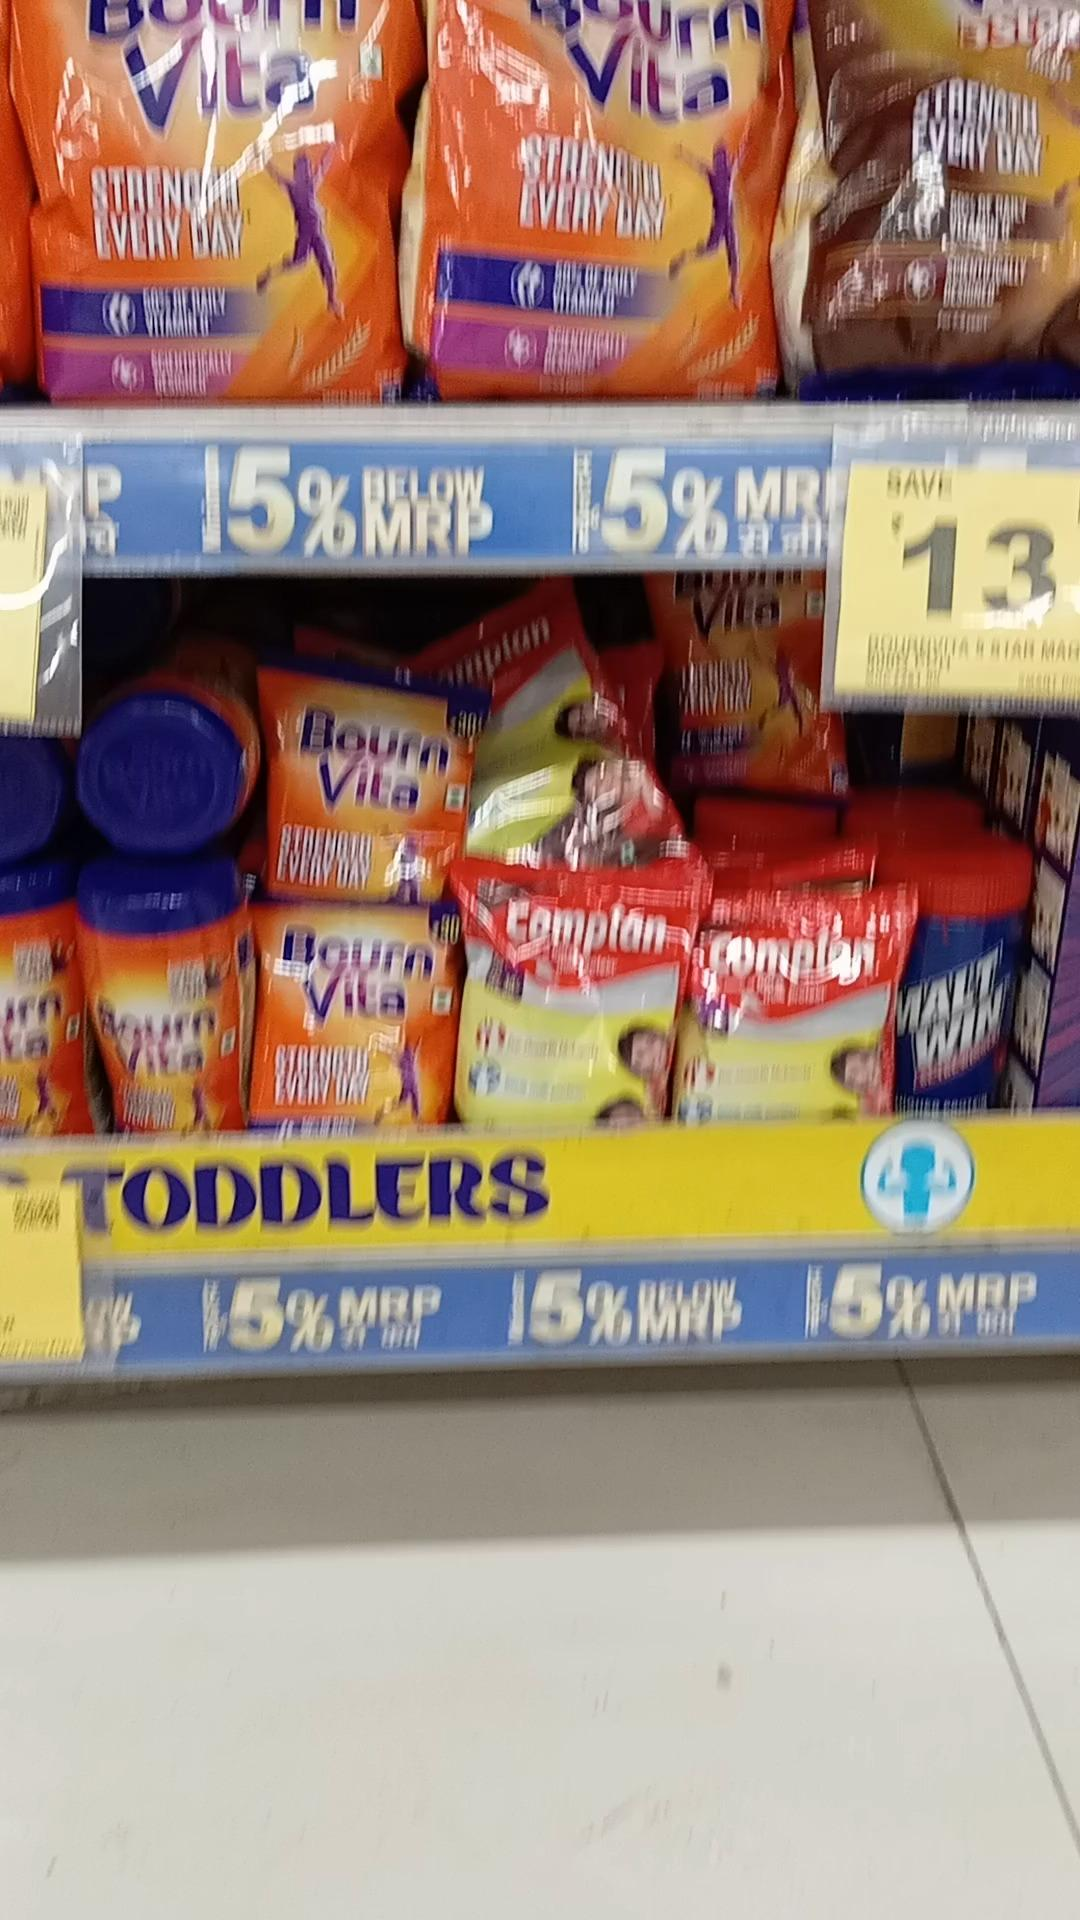BOURN_VITA_200_G_JAR: (79, 862, 240, 1137)
BOURN_VITA_75_G_POUCH: (269, 650, 462, 890), (260, 905, 446, 1125)
